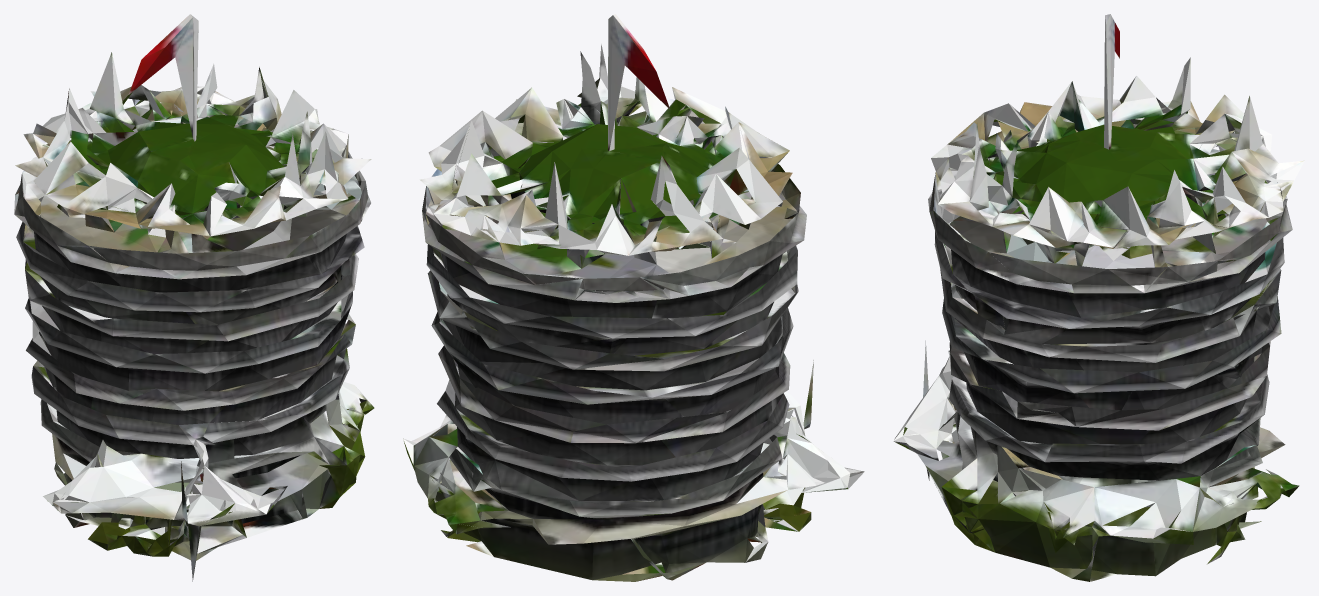
File: torre_sakhir.glb
The picture shows the model from 3 angles, left to right: view 1: azimuth 30°, elevation 25°; view 2: azimuth 150°, elevation 25°; view 3: azimuth 270°, elevation 25°; orthographic projection. The views are drawn at different scales.
Parts seen in each view (by area): view 1: tmptmb9f887.ply; view 2: tmptmb9f887.ply; view 3: tmptmb9f887.ply.
Boxes of the visible parts, x1=… form: tmptmb9f887.ply: x1=14, y1=14, x2=374, y2=581; tmptmb9f887.ply: x1=403, y1=14, x2=864, y2=581; tmptmb9f887.ply: x1=893, y1=14, x2=1304, y2=581.
Size of the model in its own units: 1.5 by 1.99 by 1.45.
1 material, 1 textured.
